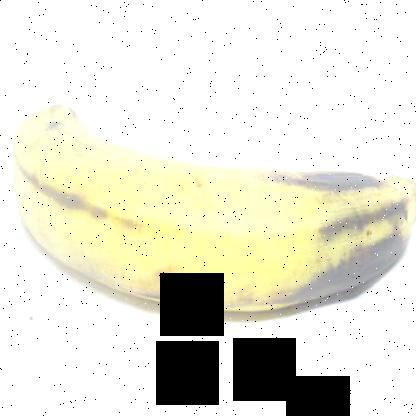ripe: (13, 82, 415, 339)
